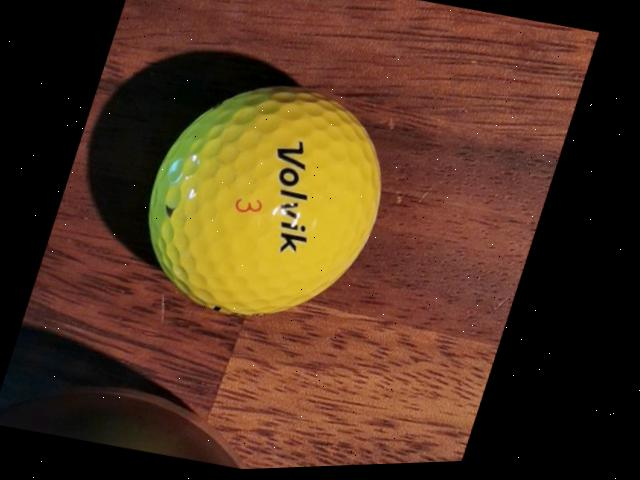Ball: (122, 62, 422, 345)
Volvik: (250, 139, 343, 261)
